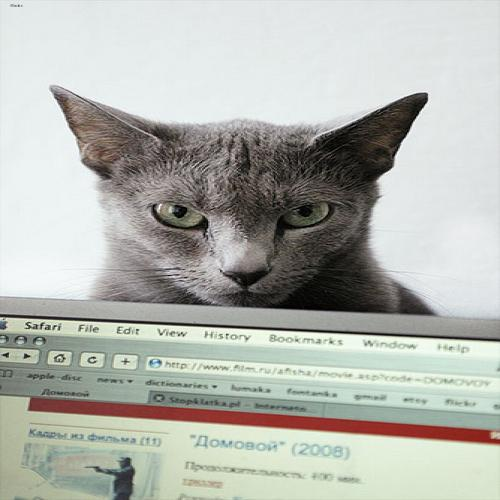rblue: (38, 79, 456, 328)
